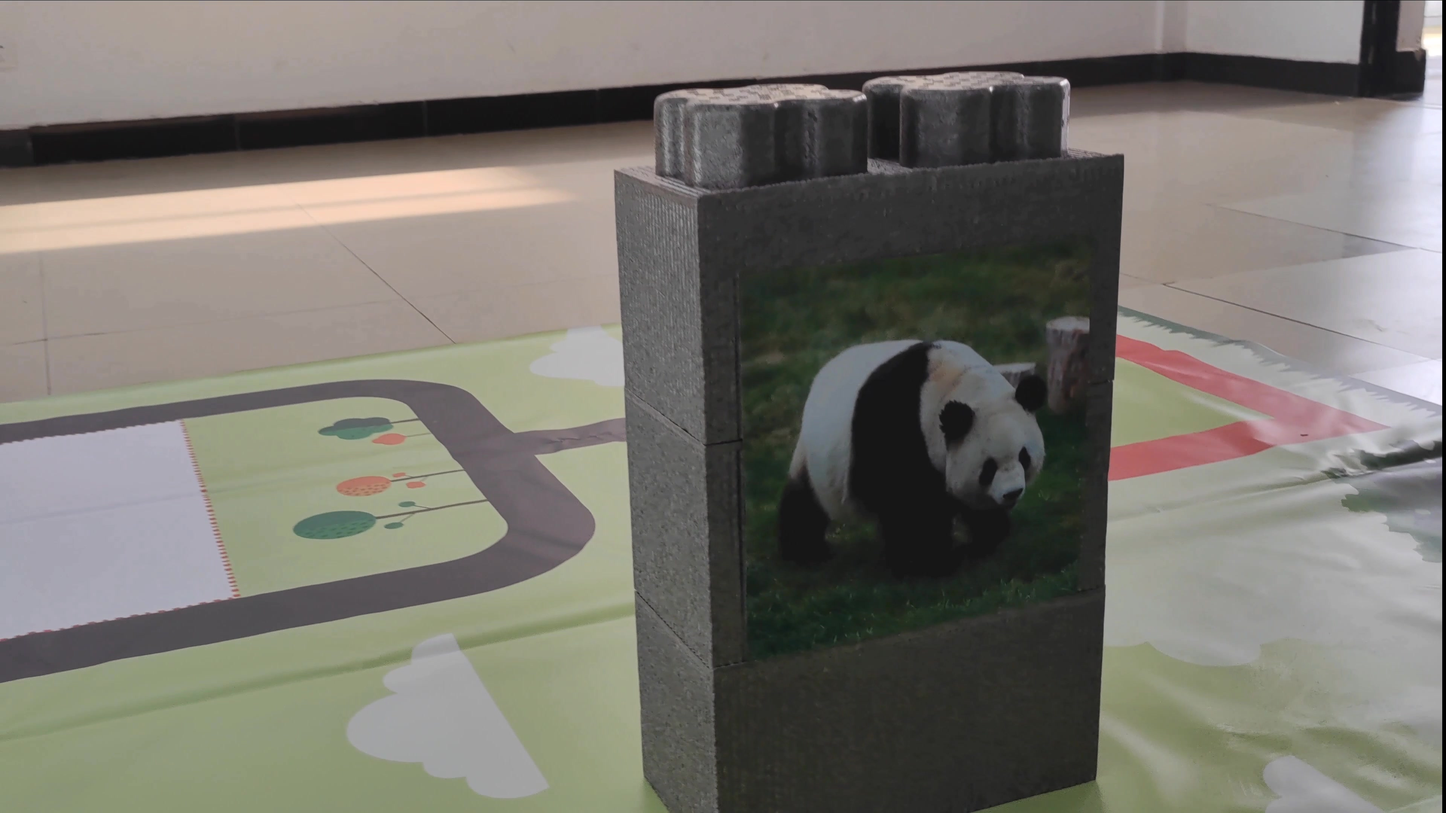panda: (757, 309, 1072, 586)
